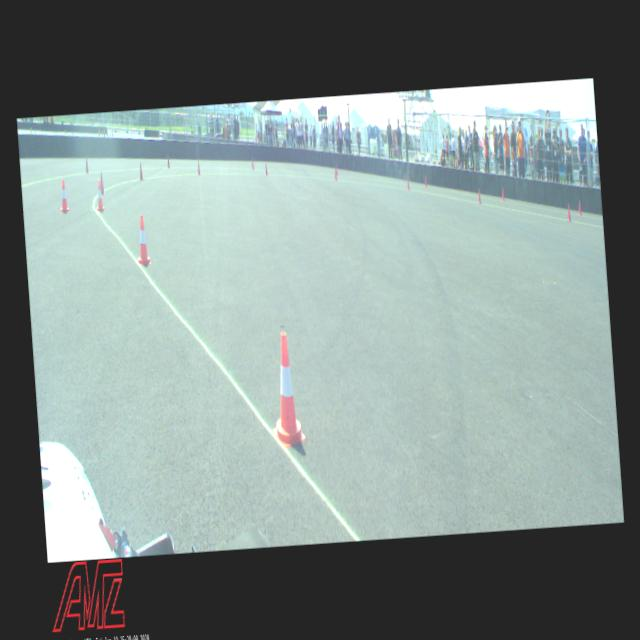orange_cone: (266, 330, 305, 448), (134, 215, 150, 265), (58, 178, 69, 212), (94, 179, 104, 211)
unknown_cone: (98, 172, 104, 196), (138, 162, 143, 180), (84, 156, 89, 174), (577, 199, 582, 216), (476, 188, 481, 204), (263, 161, 268, 176), (566, 203, 570, 220), (166, 154, 170, 168), (500, 188, 504, 202), (406, 177, 410, 191), (196, 161, 200, 174), (250, 157, 254, 170), (334, 164, 338, 177), (333, 168, 337, 180), (424, 176, 426, 187)
